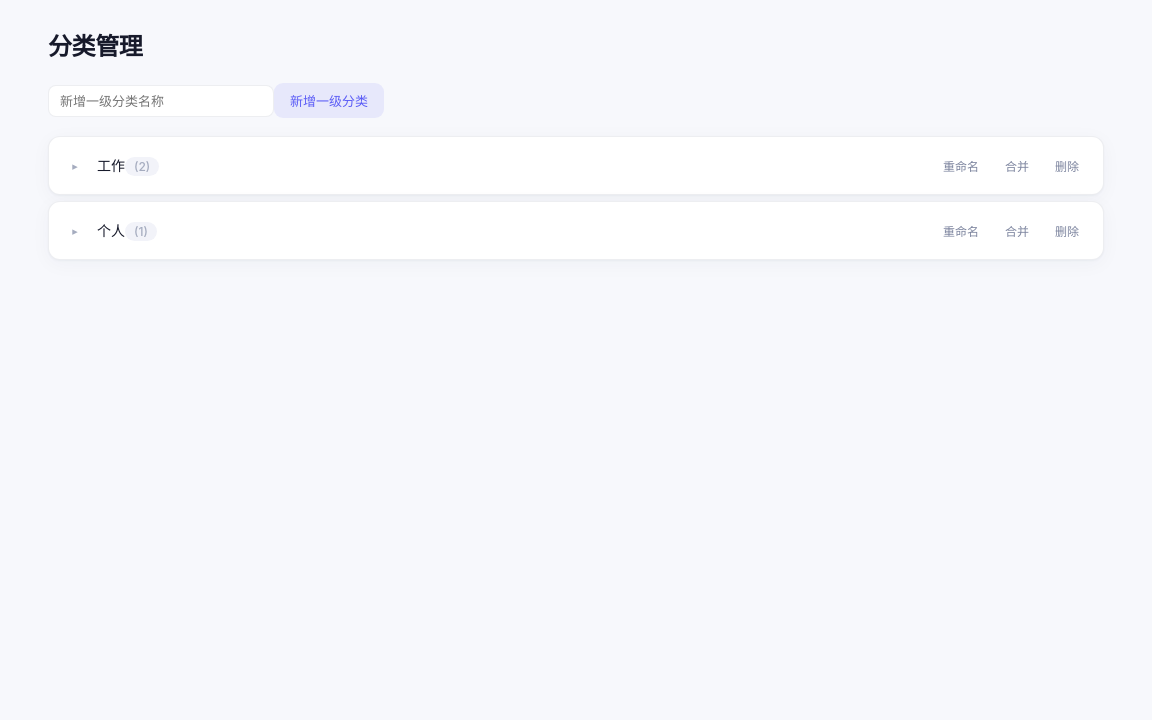
CategoryManager › opens merge dialog
The width and height of the screenshot is (1152, 720).
Check: the text "工作" is shown, box [97, 157, 125, 174]
Click the button "合并" in the row of "工作". click: click(1017, 166)
box: [995, 153, 1039, 178]
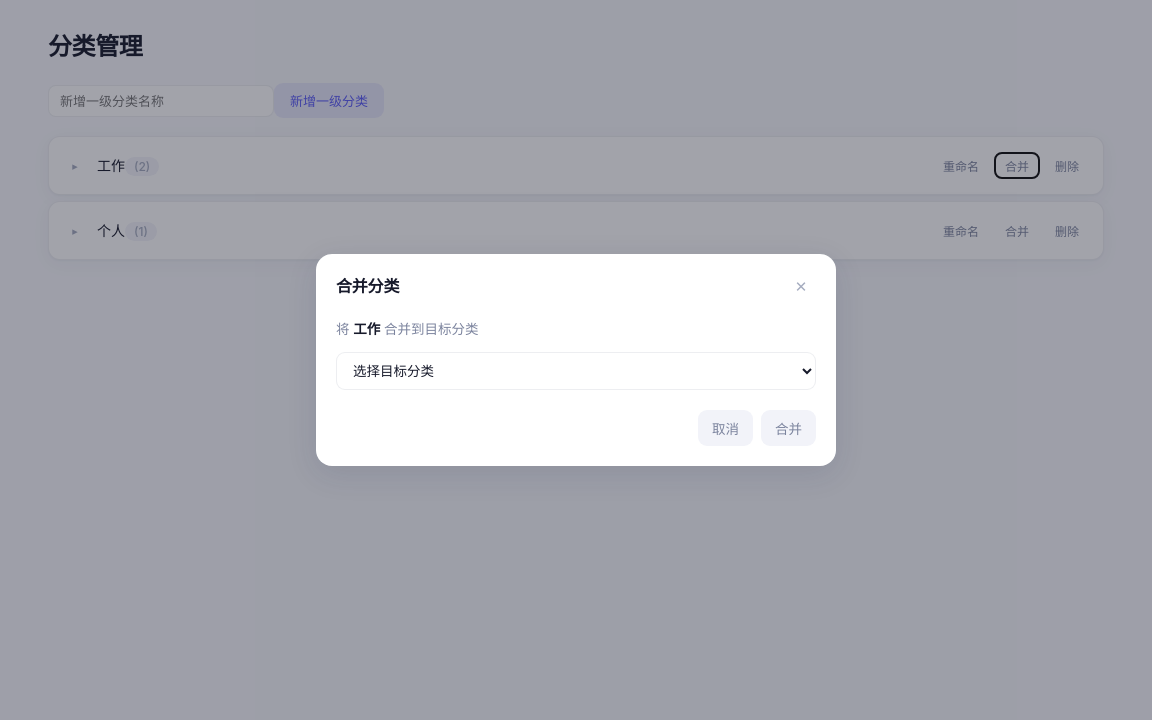
Check: the dialog "合并分类" is shown
